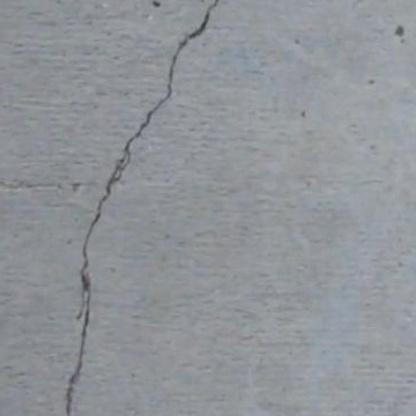Cracks: (60, 0, 237, 416)
